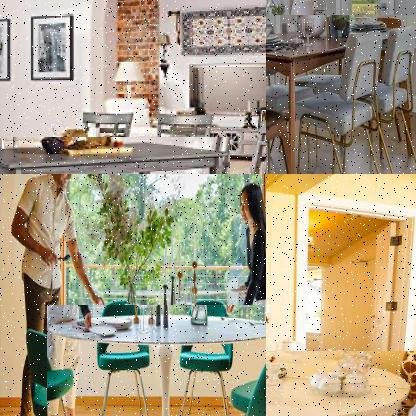table: (45, 305, 265, 415), (266, 15, 415, 173), (266, 351, 415, 415)
